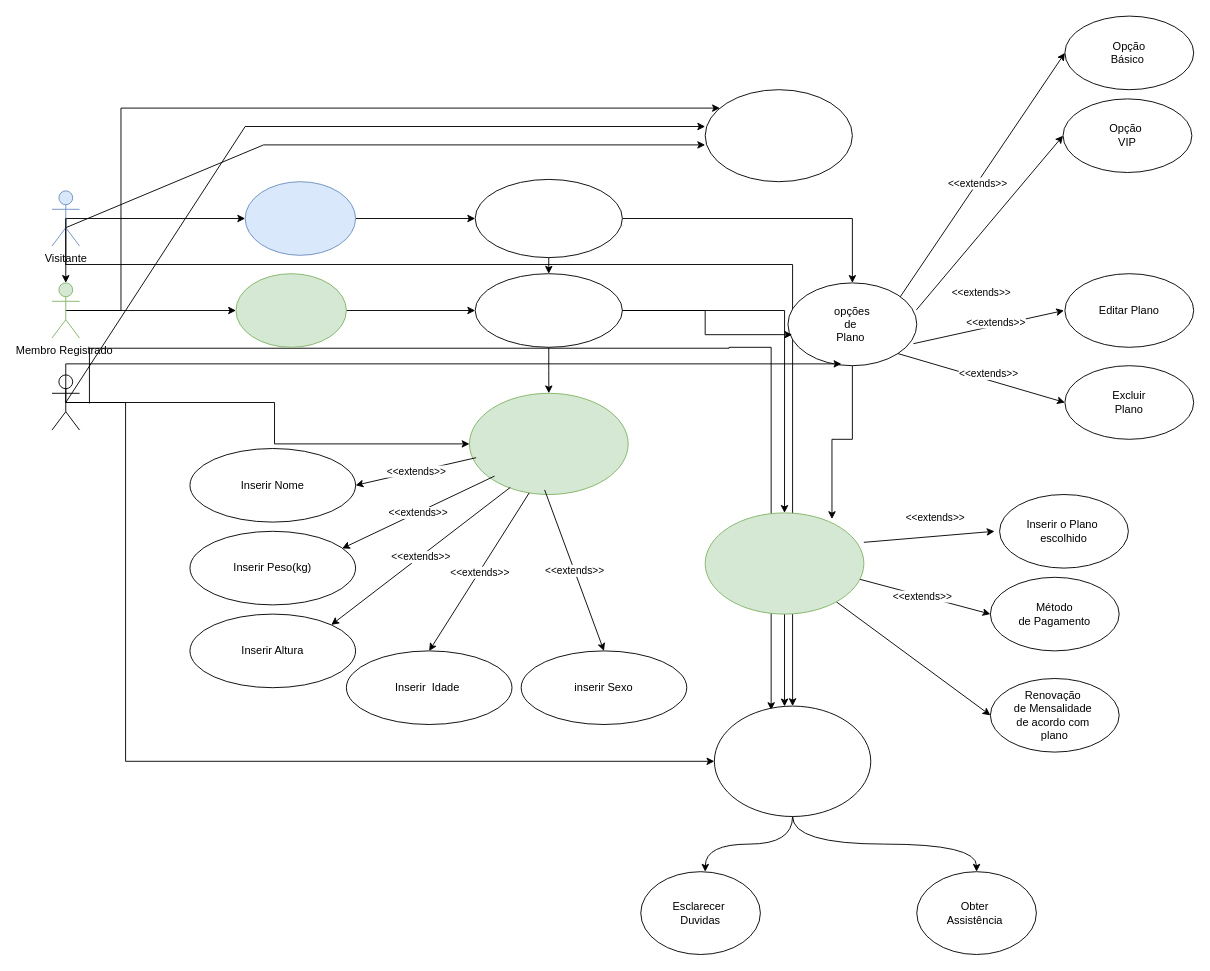
This 1210x971 diagram has some shape labels left out. Each missing label, with the centre of its shape:
Contato com Suporte: point (792, 760)
Endereço Horários: point (778, 135)
Equipe de Suporte: point (65, 402)
Ficha de treinamento: point (548, 443)
Login: point (290, 310)
O membro faz login em sua conta.: point (548, 310)
Pagamento da Mensalidade: point (784, 563)
Registra-se como um membro: point (548, 218)
Registro de Novo Usuário: point (300, 218)
